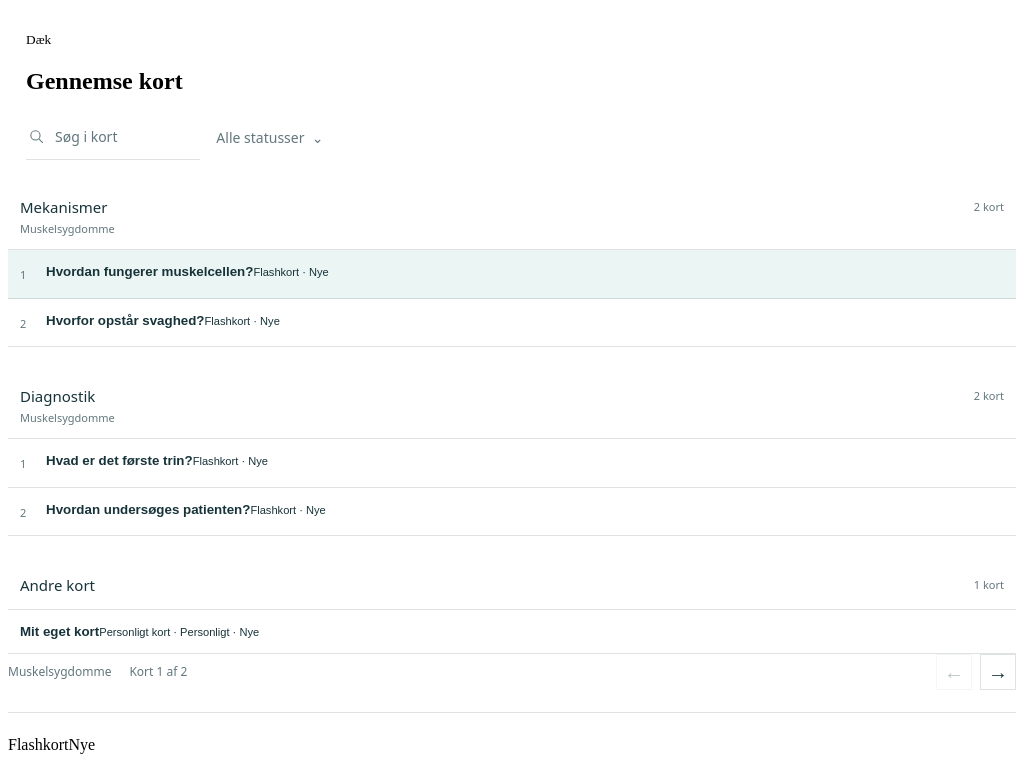
imported cards form sections in lecture order and retain personal cards in the browser
The image size is (1024, 768).
What coordinates should you click on to do the following:
click the button that starts with "Mit eget kort"
I would click on:
 (60, 632)
Its box is [8, 610, 1016, 654].
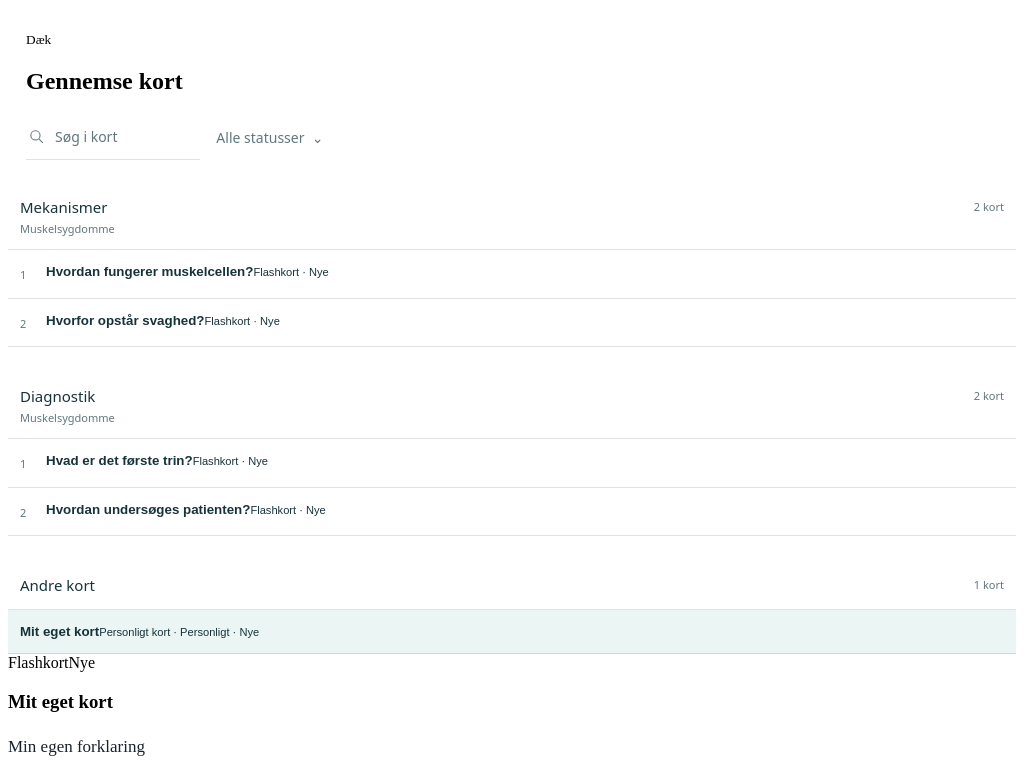
Expected: the element with class "flashcard71-card-detail" shows "Min egen forklaring", [8, 736, 145, 756]
